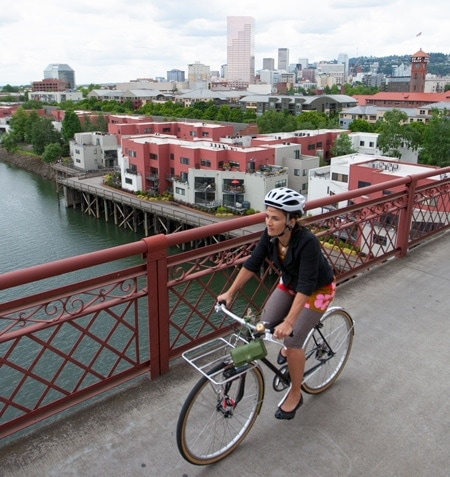bikerider: (164, 184, 360, 476)
